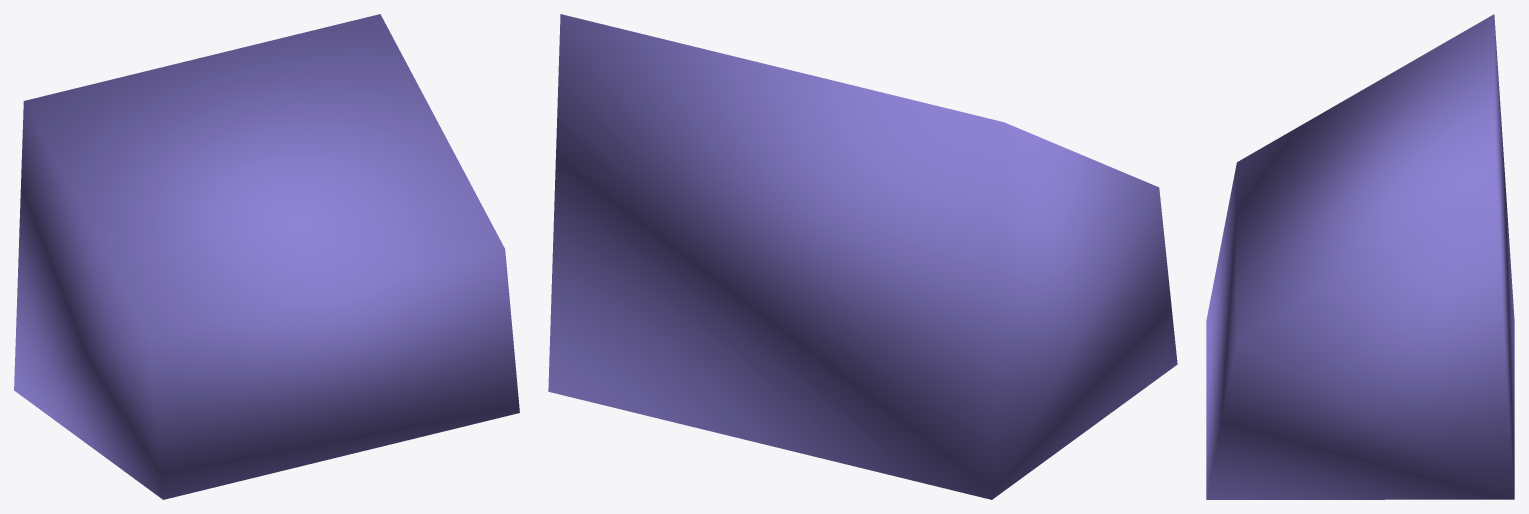
Rendered from Rock_Small_01_SPR_COL.fbx.
3 renders of one model, left to right at view 1: azimuth 30°, elevation 25°; view 2: azimuth 150°, elevation 25°; view 3: azimuth 270°, elevation 25°, orthographic. The views are drawn at different scales.
Visible parts, largest first — view 1: Rock_Small_01_SPR_COL; view 2: Rock_Small_01_SPR_COL; view 3: Rock_Small_01_SPR_COL.
Boxes of the visible parts, box(x1,y1,x2,y2) form: Rock_Small_01_SPR_COL: box(14, 14, 519, 499); Rock_Small_01_SPR_COL: box(548, 14, 1177, 499); Rock_Small_01_SPR_COL: box(1206, 14, 1514, 499).
Size of the model in its own units: 66.62 by 52.99 by 48.29.
